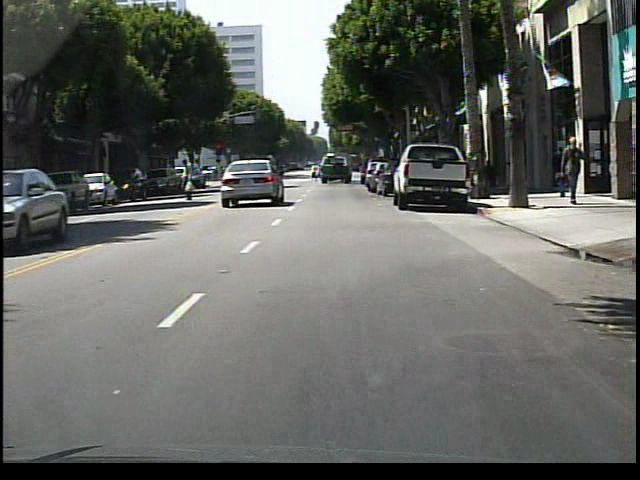person: (562, 134, 587, 205), (550, 145, 568, 201), (181, 156, 199, 203), (312, 163, 321, 185)
